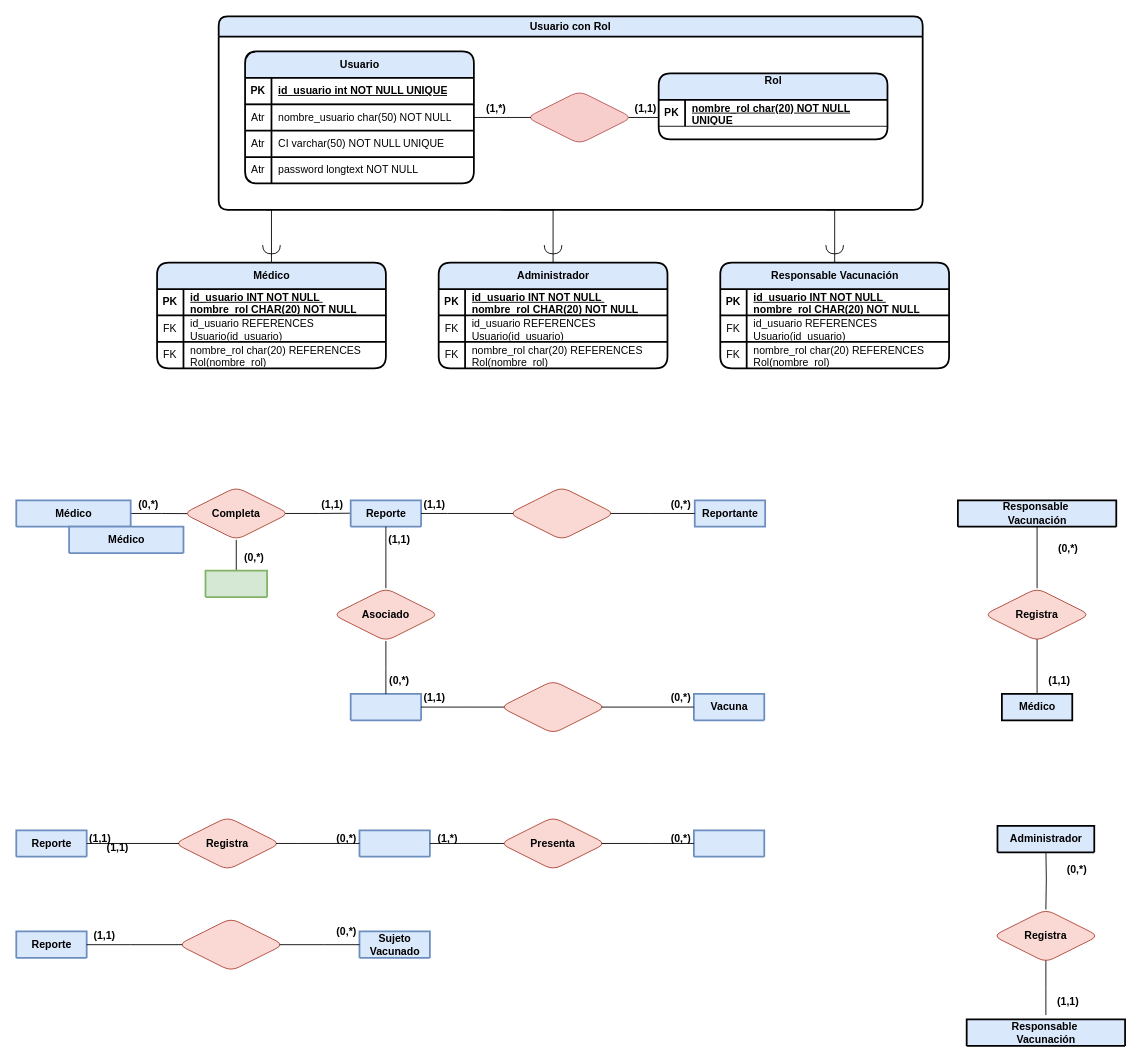
Image size: 1140x1061. Some labels were removed from this diagram. The shapes that lost their labels are listed below. From the top down, each one's centre as x and y in pixels, then its label:
At pixel 579 117: "Tener".
At pixel 561 513: "Crea".
At pixel 236 583: "Fecha".
At pixel 385 707: "Vacunación".
At pixel 552 706: "Corresponde".
At pixel 394 843: "Eventos Adversos".
At pixel 729 843: "Síntomas".
At pixel 230 944: "Describe".
